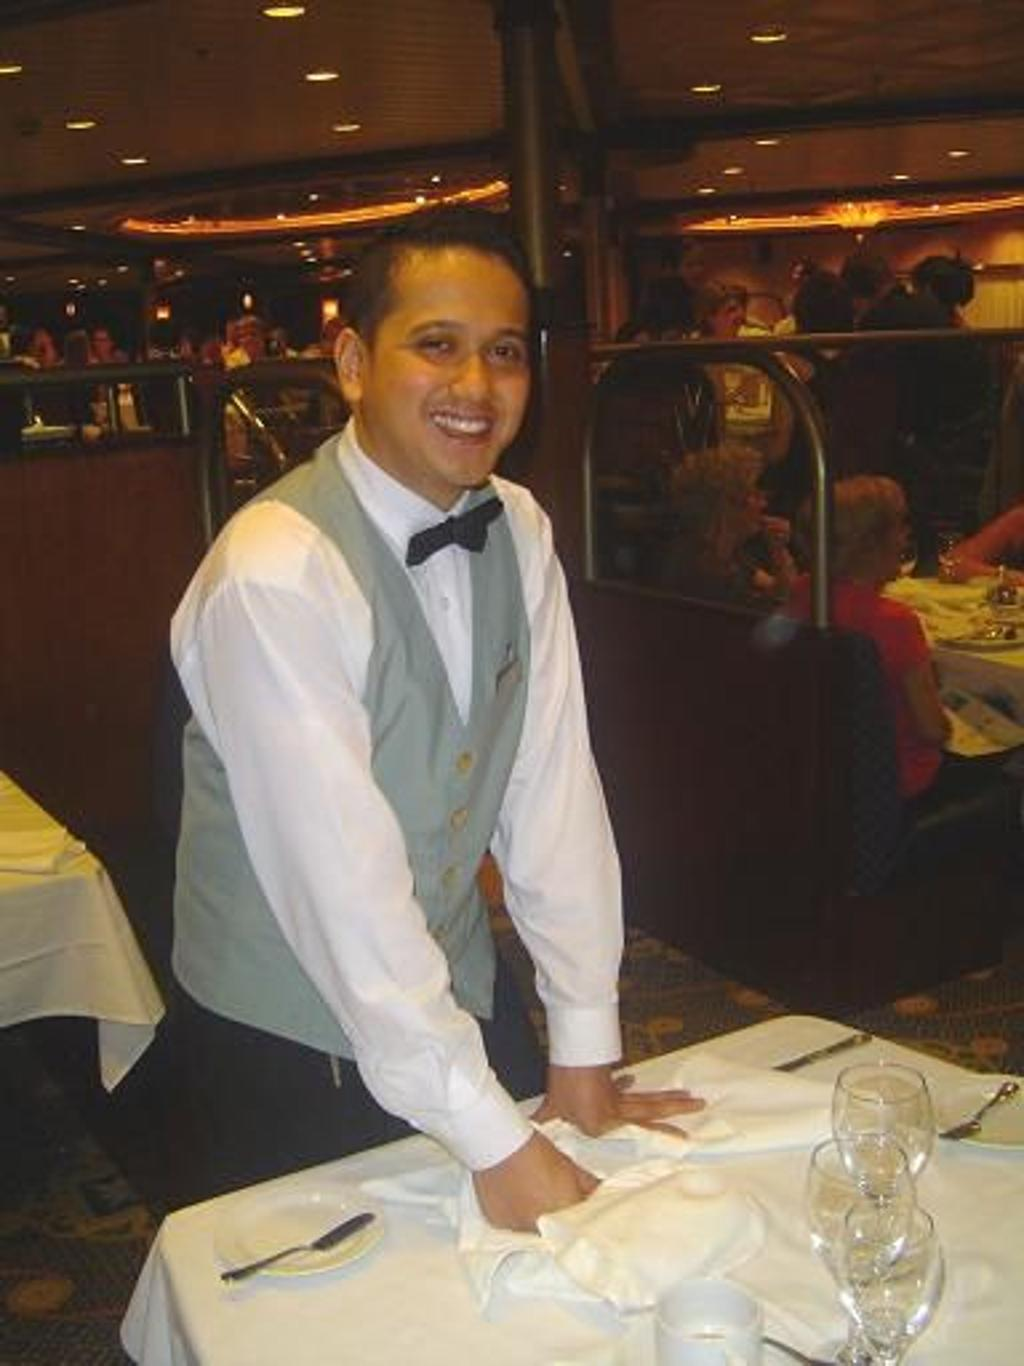face: (363, 286, 531, 488)
